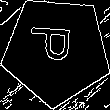P_E: (30, 30, 82, 71)
